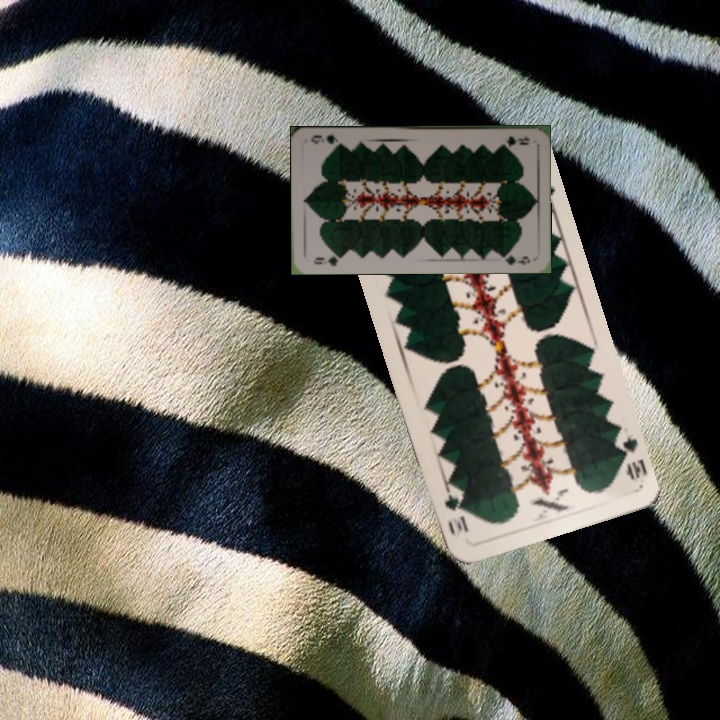G10: (610, 429, 649, 483)
G9: (310, 250, 346, 268), (502, 132, 532, 148)
